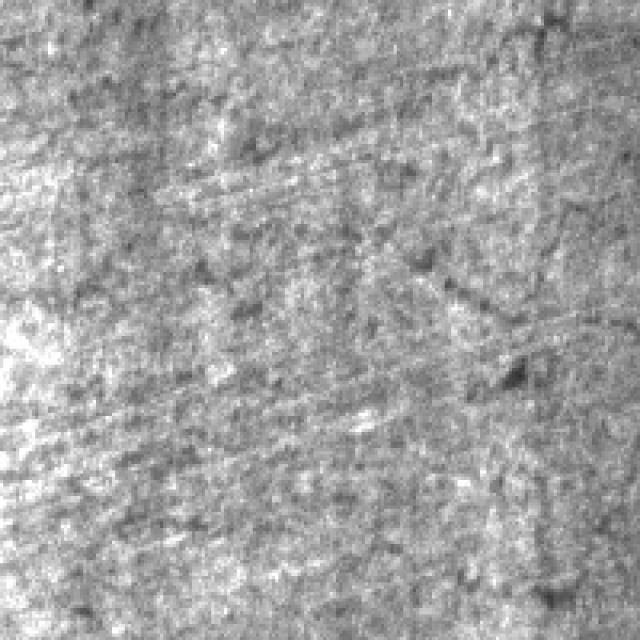crazing: (64, 16, 554, 333)
